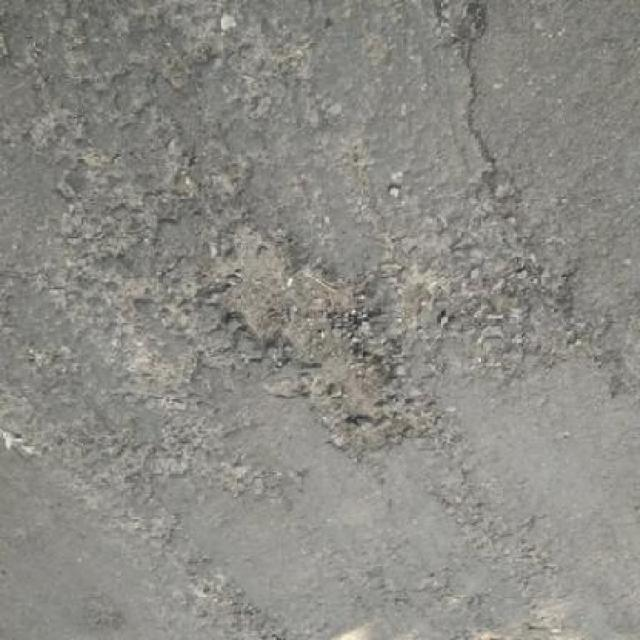pothole: (202, 228, 446, 466)
